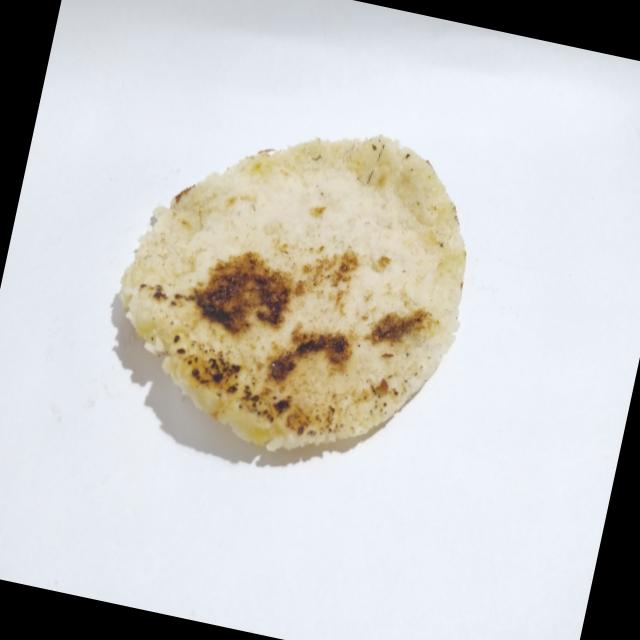Mbeju: (83, 82, 499, 500)
